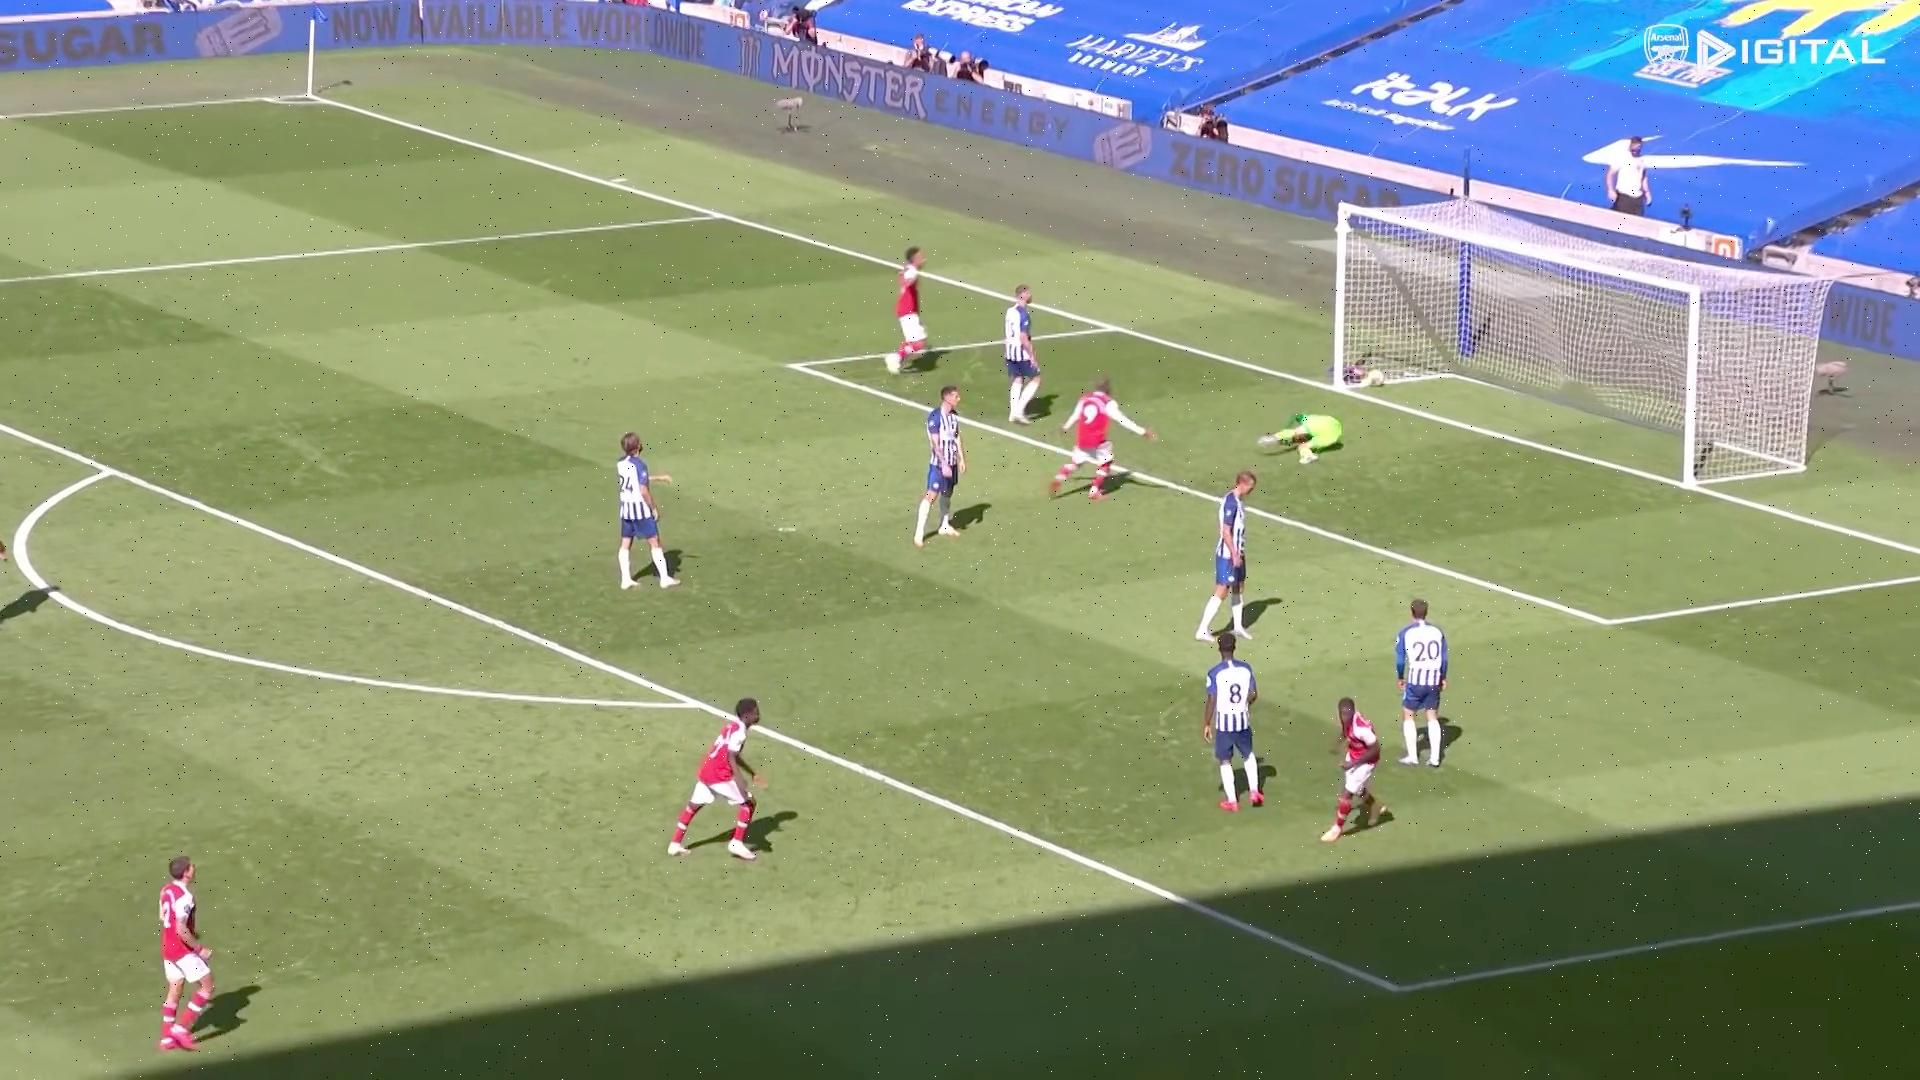ball: (1367, 369, 1386, 385)
